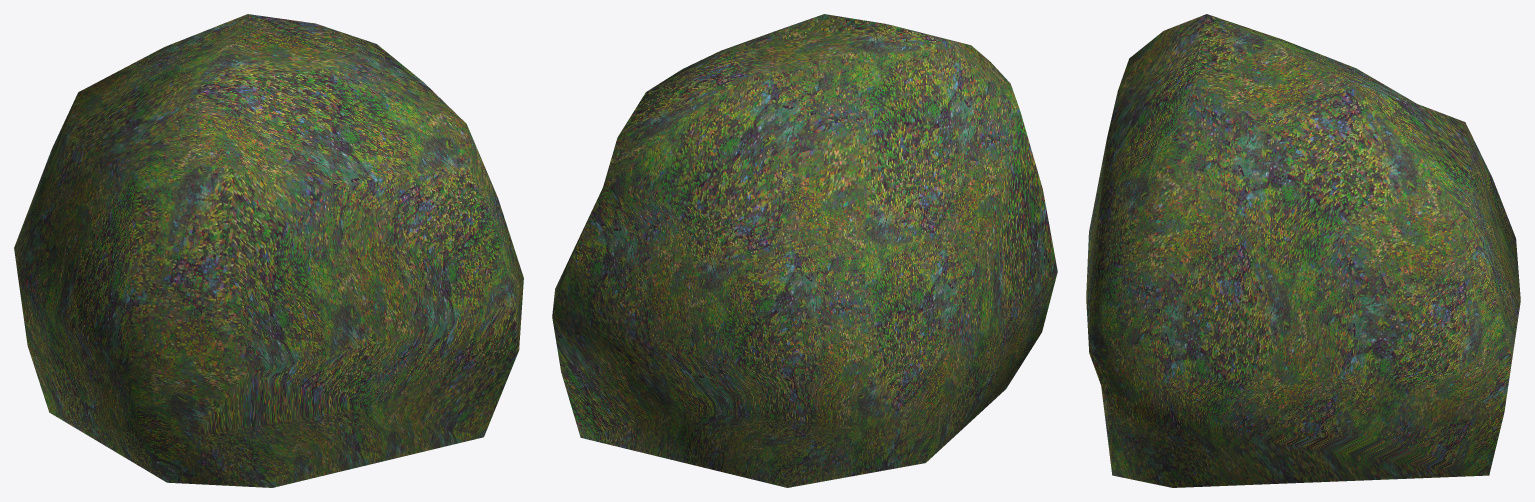
The model's file is rock_mossy_small_a1_l1.fbx.
The picture shows the model from 3 angles, left to right: view 1: azimuth 30°, elevation 25°; view 2: azimuth 150°, elevation 25°; view 3: azimuth 270°, elevation 25°; orthographic projection. The views are drawn at different scales.
Visible parts, largest first — view 1: mesh_node; view 2: mesh_node; view 3: mesh_node.
Part boxes in pixels (box(x1,y1,x2,y2)): mesh_node: box(14, 14, 523, 487); mesh_node: box(552, 14, 1057, 487); mesh_node: box(1086, 14, 1520, 487).
Bounding box in the file's own units: 2 × 1.78 × 2.
